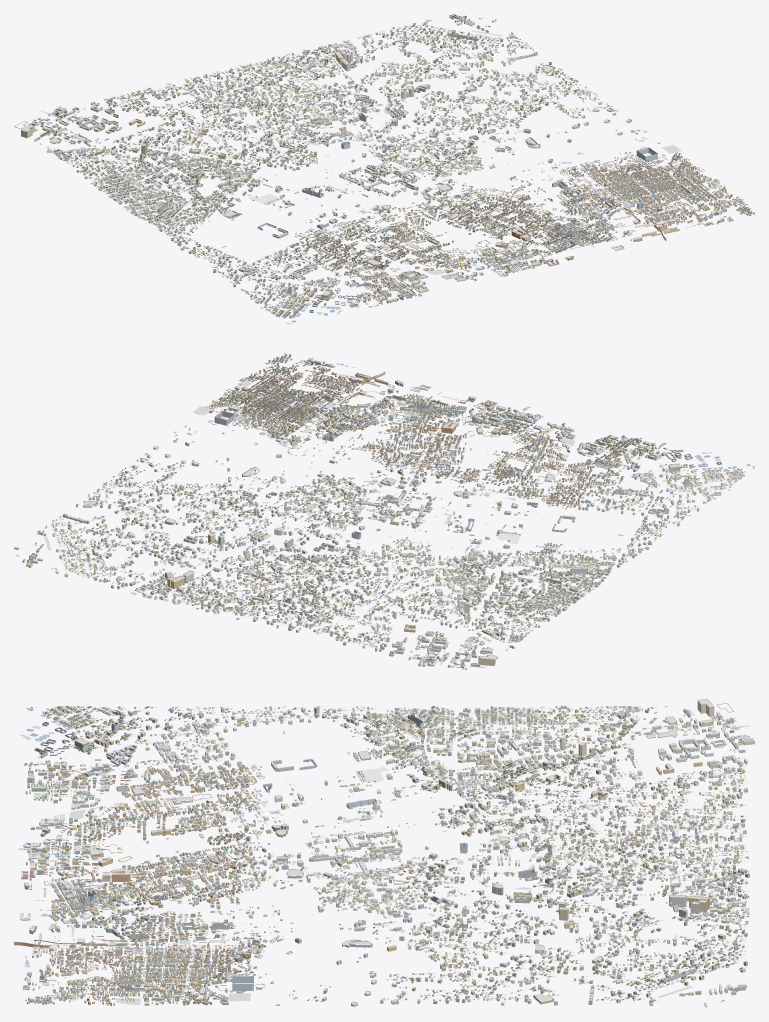
3 renders of one model, top to bottom at view 1: azimuth 30°, elevation 25°; view 2: azimuth 150°, elevation 25°; view 3: azimuth 270°, elevation 25°, orthographic. The views are drawn at different scales.
Parts seen in each view (by area): view 1: apartment, roof_flat, house, shop, roof_zinc, glass, parking; view 2: apartment, roof_flat, house, shop, roof_zinc, glass, parking; view 3: apartment, roof_flat, house, shop, roof_zinc, glass, parking.
Part boxes in pixels (x1=…): apartment: x1=21, y1=14, x2=754, y2=316; roof_flat: x1=20, y1=14, x2=753, y2=314; house: x1=32, y1=20, x2=646, y2=324; shop: x1=14, y1=91, x2=747, y2=295; roof_zinc: x1=31, y1=19, x2=704, y2=323; glass: x1=150, y1=33, x2=696, y2=293; parking: x1=41, y1=37, x2=679, y2=270; apartment: x1=14, y1=353, x2=730, y2=669; roof_flat: x1=15, y1=354, x2=731, y2=669; house: x1=35, y1=428, x2=754, y2=664; shop: x1=196, y1=356, x2=657, y2=667; roof_zinc: x1=34, y1=363, x2=752, y2=665; glass: x1=66, y1=383, x2=689, y2=603; parking: x1=104, y1=374, x2=610, y2=664; apartment: x1=14, y1=699, x2=754, y2=1007; roof_flat: x1=14, y1=698, x2=754, y2=1004; house: x1=24, y1=705, x2=744, y2=1001; shop: x1=33, y1=703, x2=734, y2=1001; roof_zinc: x1=20, y1=706, x2=748, y2=1000; glass: x1=72, y1=714, x2=696, y2=991; parking: x1=18, y1=725, x2=750, y2=978.
Size of the model in its own units: 1.42e+08 by 2627910 by 1.48e+08.
